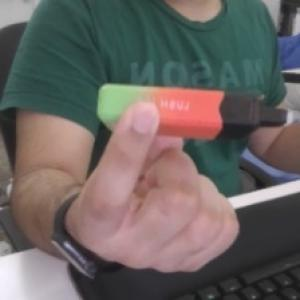Swift-E-Ciggirate: (91, 80, 290, 142)
